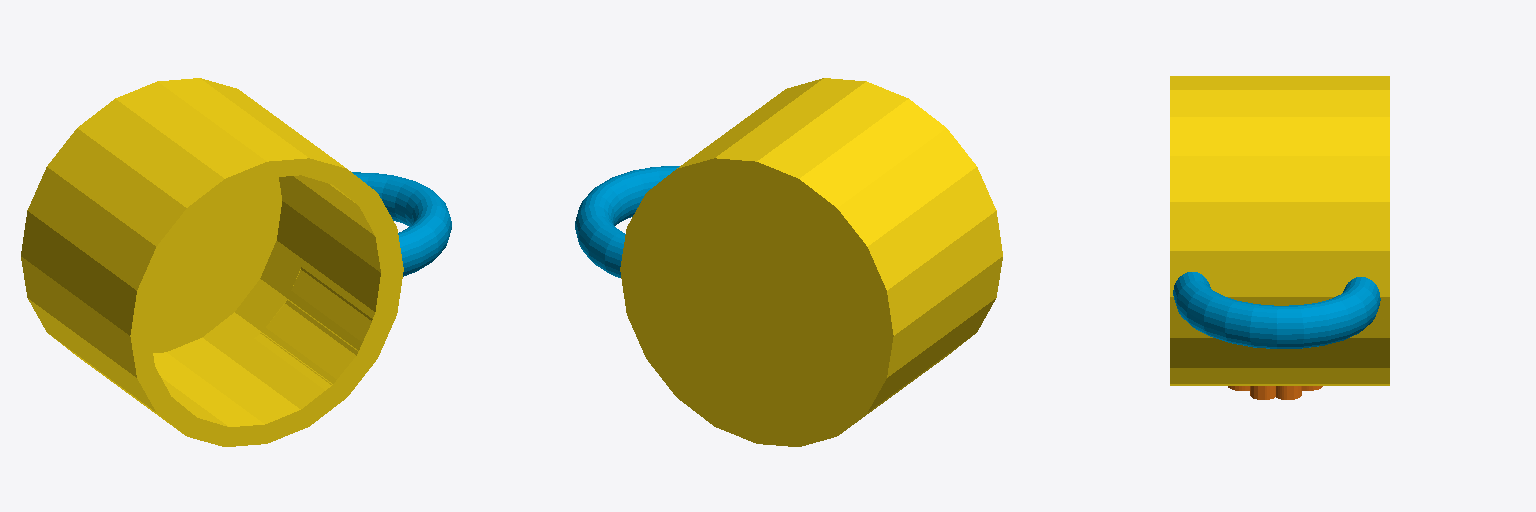
The model's file is tinker.obj.
The picture shows the model from 3 angles: view 1: azimuth 30°, elevation 25°; view 2: azimuth 150°, elevation 25°; view 3: azimuth 270°, elevation 25°; orthographic projection.
Parts seen in each view (by area): view 1: obj_0; view 2: obj_0; view 3: obj_0.
Boxes of the visible parts, <box> form: obj_0: <box>21,78,451,446</box>; obj_0: <box>575,78,1002,446</box>; obj_0: <box>1170,76,1389,399</box>.
Size of the model in its own units: 95 by 73 by 50.